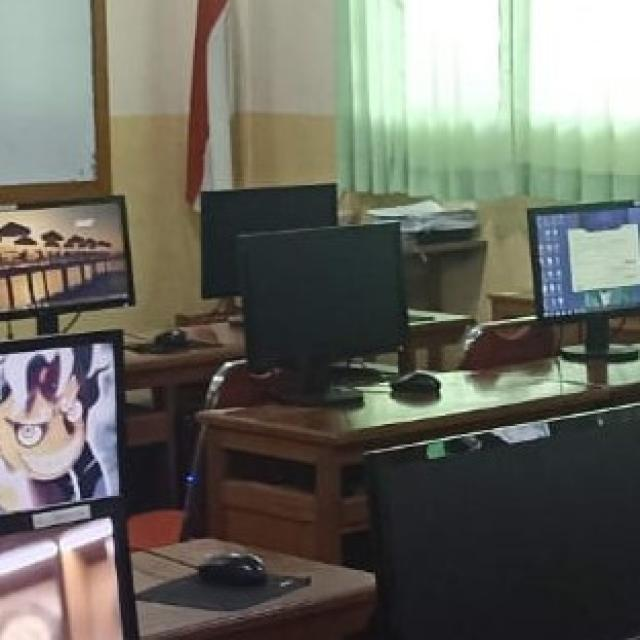offscreen: (204, 223, 405, 368), (201, 186, 336, 298)
onscreen: (0, 331, 121, 515), (0, 196, 134, 320), (529, 206, 640, 318)
